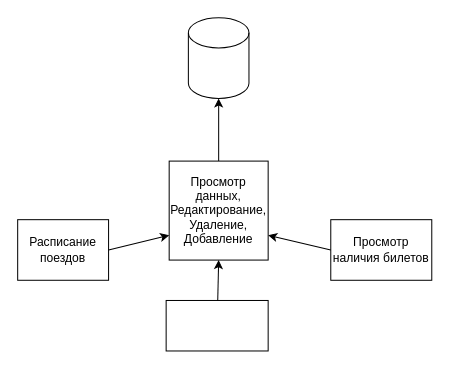
Some shapes in this 449 by 369 pixel diagram are drawn without their labels. The shapes that lost their labels are listed below. From the top down, each one's centre as x and y in pixels, then its label:
the point at 218,57: База Данных train
the point at 216,325: Выбор подходящего маршрута
